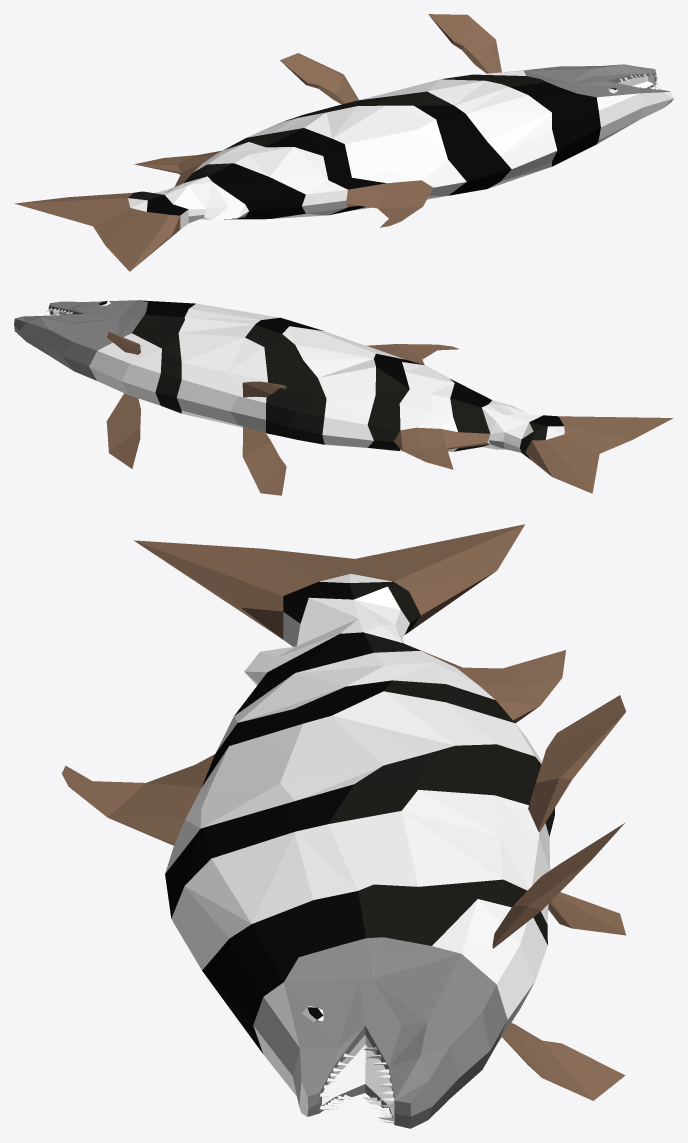
Rendered from TigerfishDrip.obj.
The picture shows the model from 3 angles, top to bottom: view 1: azimuth 30°, elevation 25°; view 2: azimuth 150°, elevation 25°; view 3: azimuth 270°, elevation 25°; orthographic projection. The views are drawn at different scales.
Parts seen in each view (by area): view 1: TigerfishDrip_0; view 2: TigerfishDrip_0; view 3: TigerfishDrip_0.
Boxes of the visible parts, x1,y1,x2,y2 form: TigerfishDrip_0: (15, 14, 673, 271); TigerfishDrip_0: (14, 300, 673, 495); TigerfishDrip_0: (61, 524, 626, 1128).
Size of the model in its own units: 1.04 by 0.2072 by 0.4189.
1 material, 1 textured.
